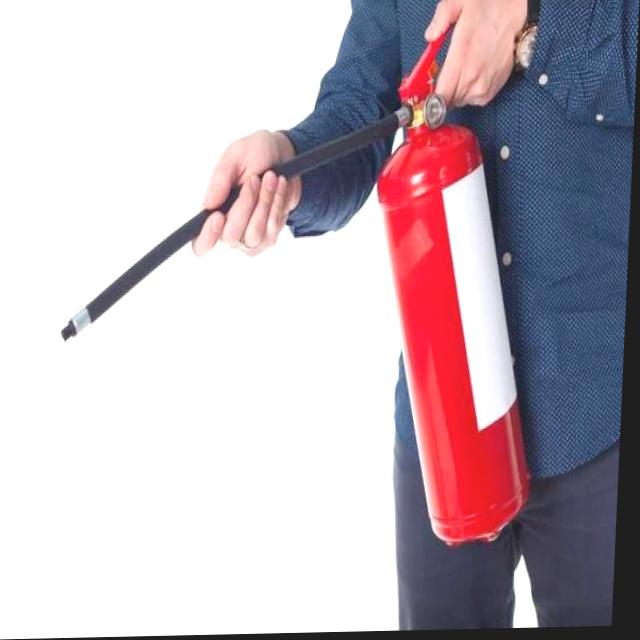FireExtinguisher: (48, 0, 560, 562)
